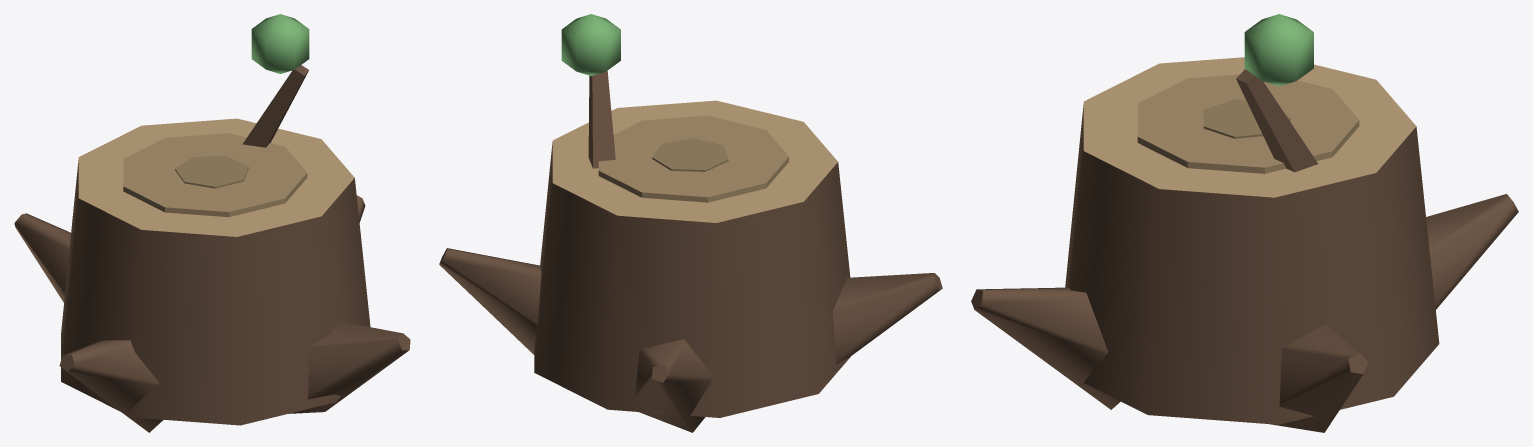
File: stump.glb
3 renders of one model, left to right at view 1: azimuth 30°, elevation 25°; view 2: azimuth 150°, elevation 25°; view 3: azimuth 270°, elevation 25°, orthographic. The views are drawn at different scales.
Parts seen in each view (by area): view 1: body; view 2: body; view 3: body.
Boxes of the visible parts, x1,y1,x2,y2 form: body: (14, 14, 410, 432); body: (439, 14, 942, 432); body: (971, 14, 1518, 432).
Bounding box in the file's own units: 0.9581 × 0.7928 × 0.9581.
